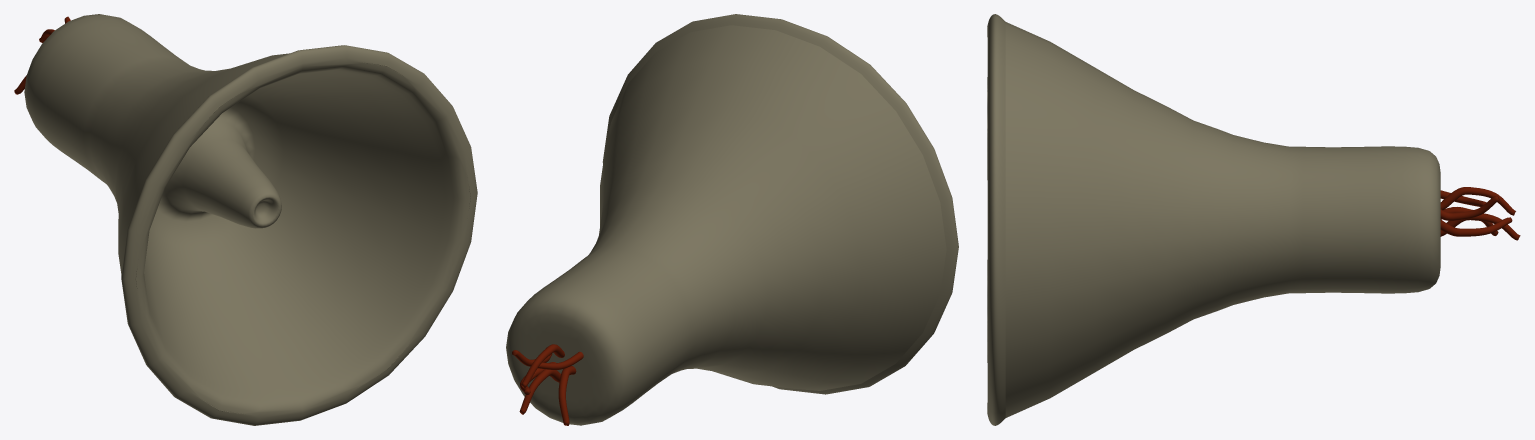
Rendered from speakerfile.fbx.
The picture shows the model from 3 angles, left to right: view 1: azimuth 30°, elevation 25°; view 2: azimuth 150°, elevation 25°; view 3: azimuth 270°, elevation 25°; orthographic projection.
Visible parts, largest first — view 1: speakerphone; view 2: speakerphone, wires; view 3: speakerphone, wires.
Part boxes in pixels (x1=…): speakerphone: x1=24, y1=14, x2=477, y2=425; speakerphone: x1=506, y1=14, x2=958, y2=425; wires: x1=512, y1=344, x2=583, y2=425; speakerphone: x1=987, y1=14, x2=1440, y2=425; wires: x1=1440, y1=187, x2=1520, y2=240.
Size of the model in its own units: 2.14 by 2.13 by 2.76.
